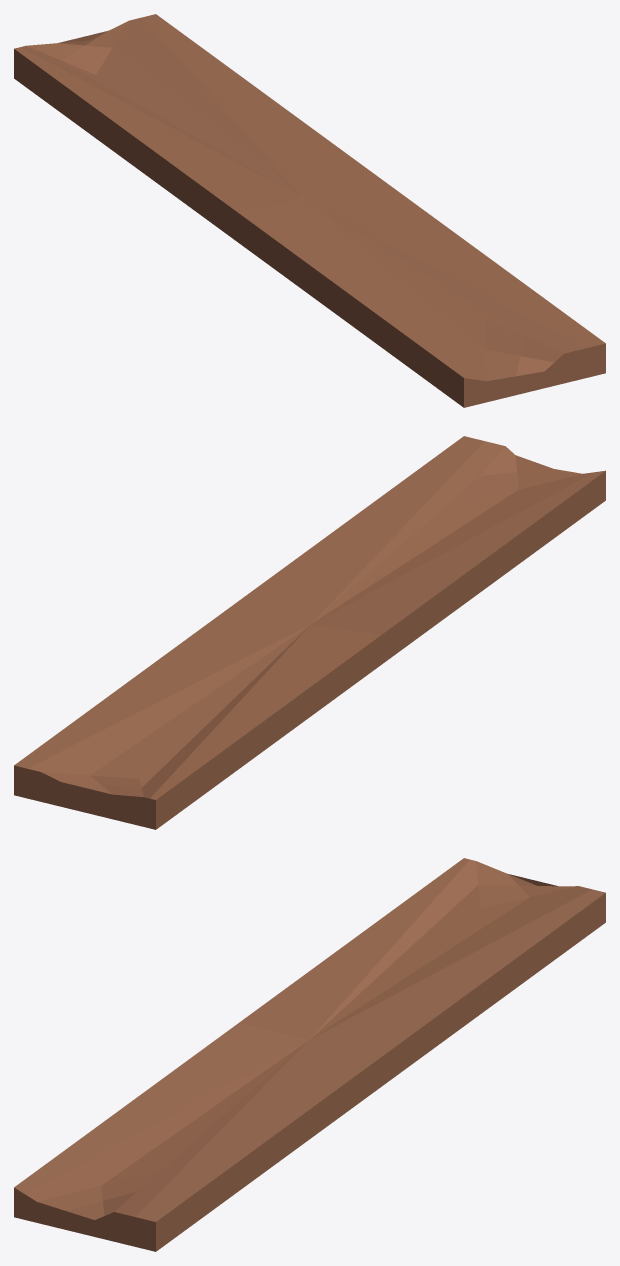
The model's file is Wooden Plank.fbx.
3 views of the same model, one above another, from view 1: azimuth 30°, elevation 25°; view 2: azimuth 150°, elevation 25°; view 3: azimuth 330°, elevation 25° (orthographic).
Visible parts, largest first — view 1: Cube; view 2: Cube; view 3: Cube.
Part boxes in pixels (bbox=[...]): Cube: bbox=[14, 14, 605, 407]; Cube: bbox=[14, 436, 605, 829]; Cube: bbox=[14, 858, 605, 1251].
Size of the model in its own units: 200 by 40.18 by 1098.
